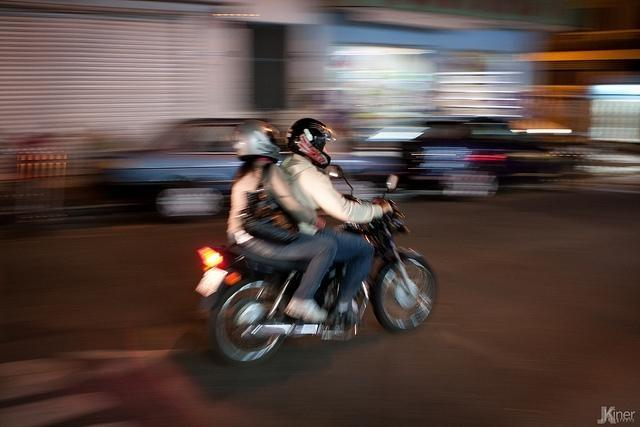car: (90, 116, 404, 221), (345, 117, 601, 197)
motorcycle: (192, 165, 438, 369)
